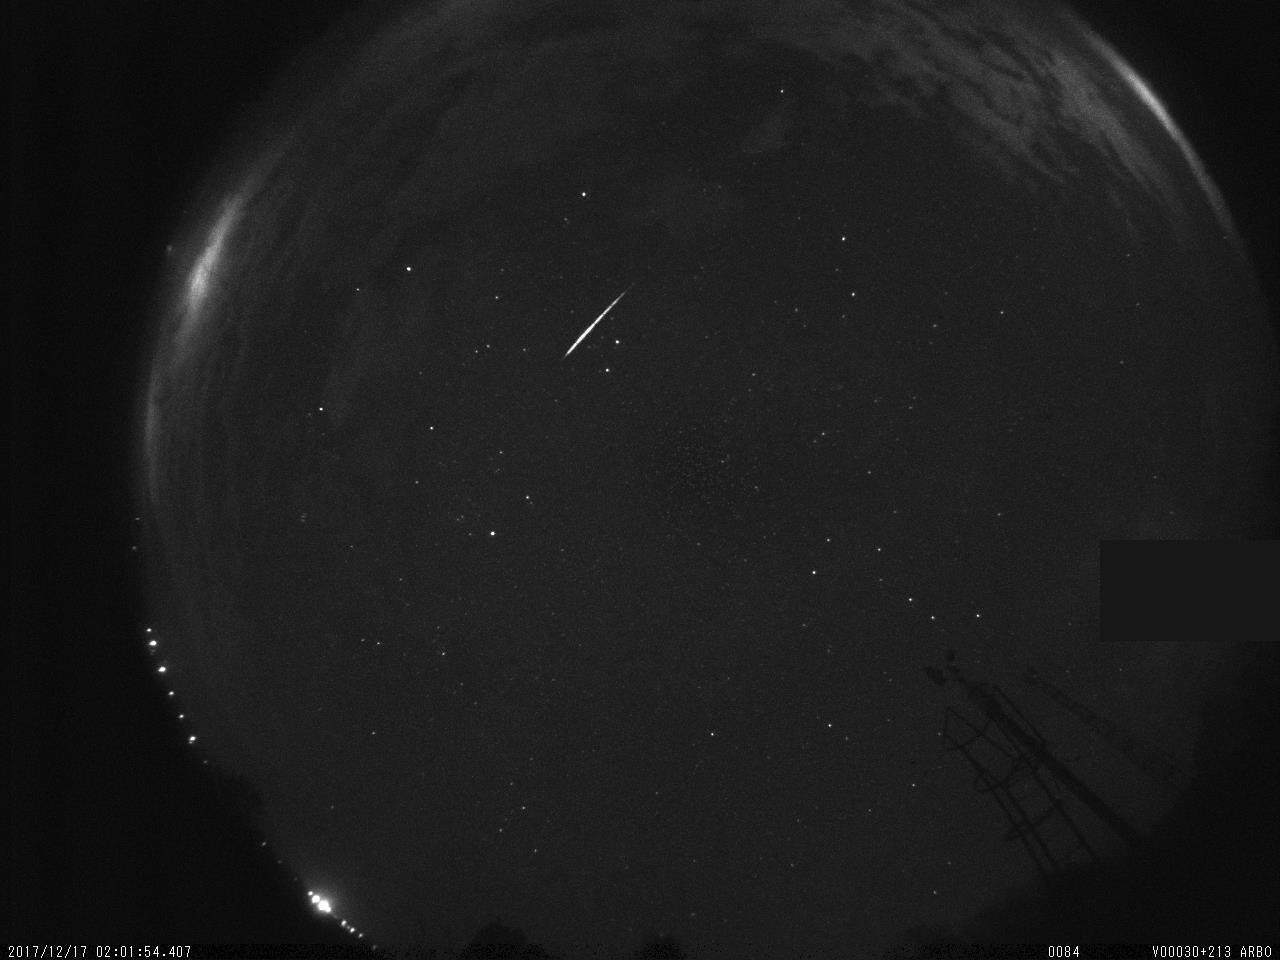meteor: (538, 271, 671, 371)
